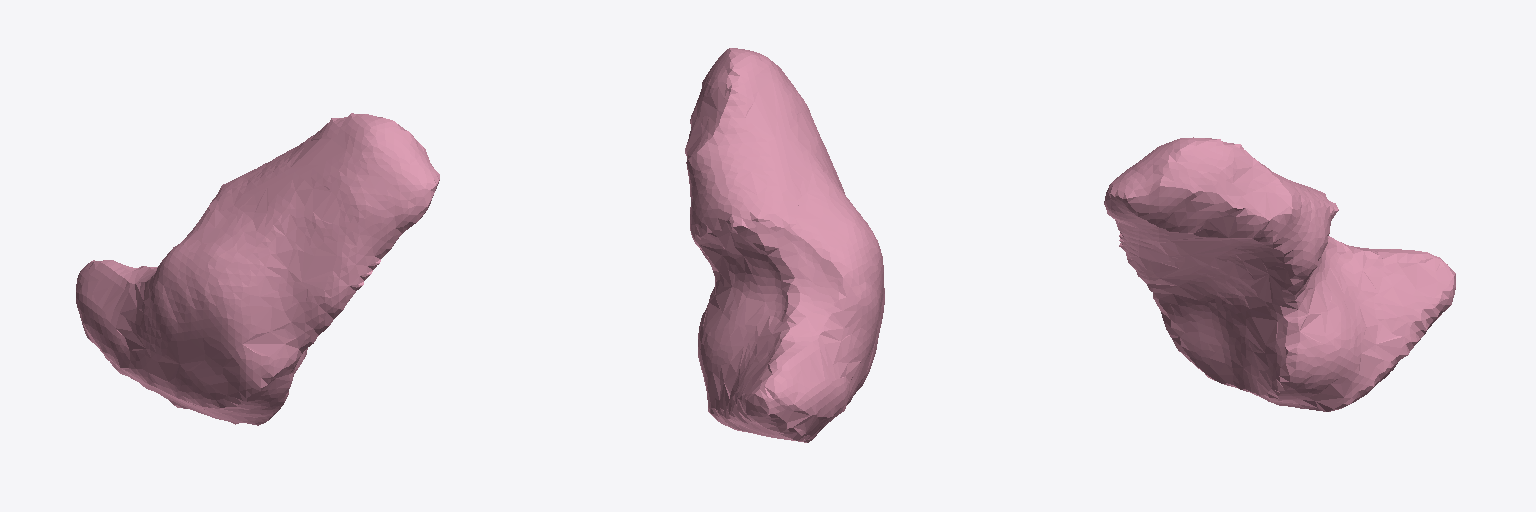
Rendered from Model_10279_LH__Lateral_pulvinar_(LPul).obj.
3 renders of one model, left to right at view 1: azimuth 30°, elevation 25°; view 2: azimuth 150°, elevation 25°; view 3: azimuth 270°, elevation 25°, orthographic.
Bounding box in the file's own units: 2.6 × 3.4 × 3.58.